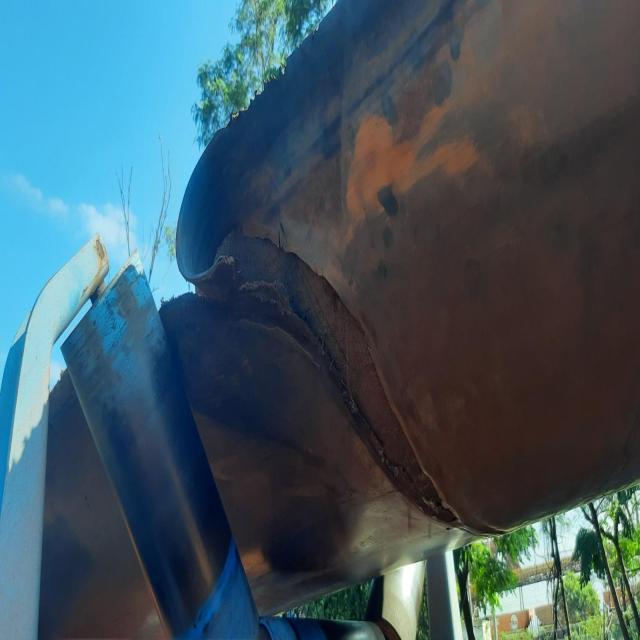Tear: (181, 224, 479, 544)
